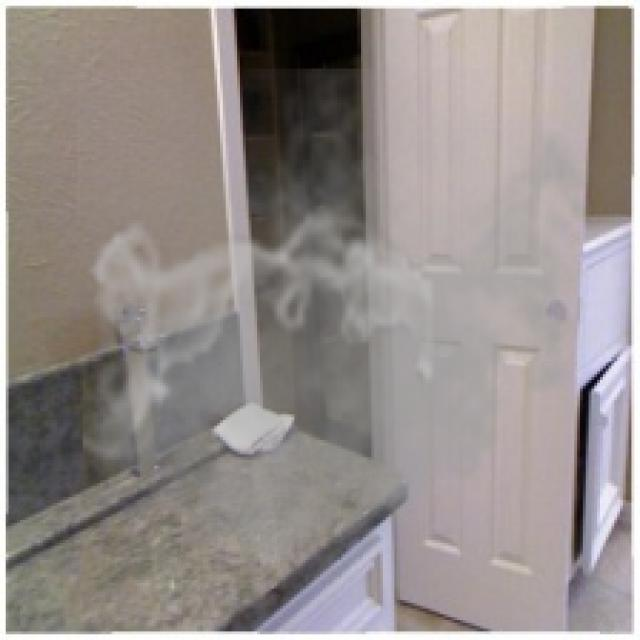smoke: (77, 69, 606, 597)
